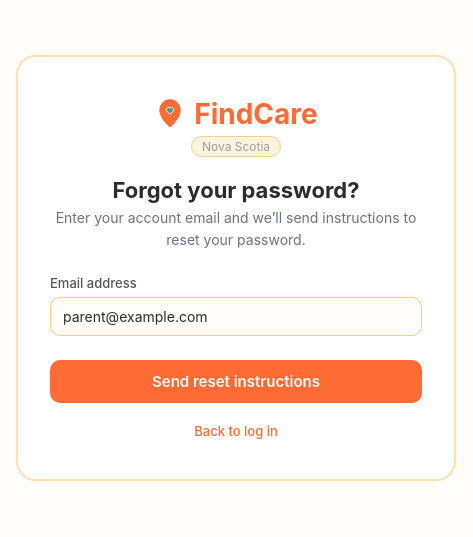
Scenario: forgot password shows a neutral confirmation after submitting an email
Expected: the field labelled "Email address" holds "parent@example.com", 50,297 -> 422,336
Click the button "Send reset instructions" at (236, 382), box 50,360 -> 422,403
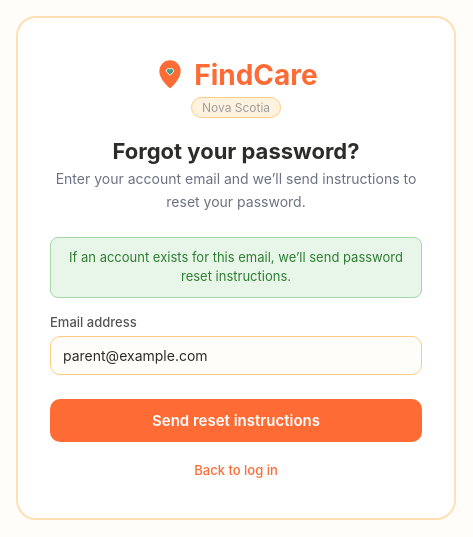
Expected: the message shows "If an account exists", 69,249 -> 403,284
